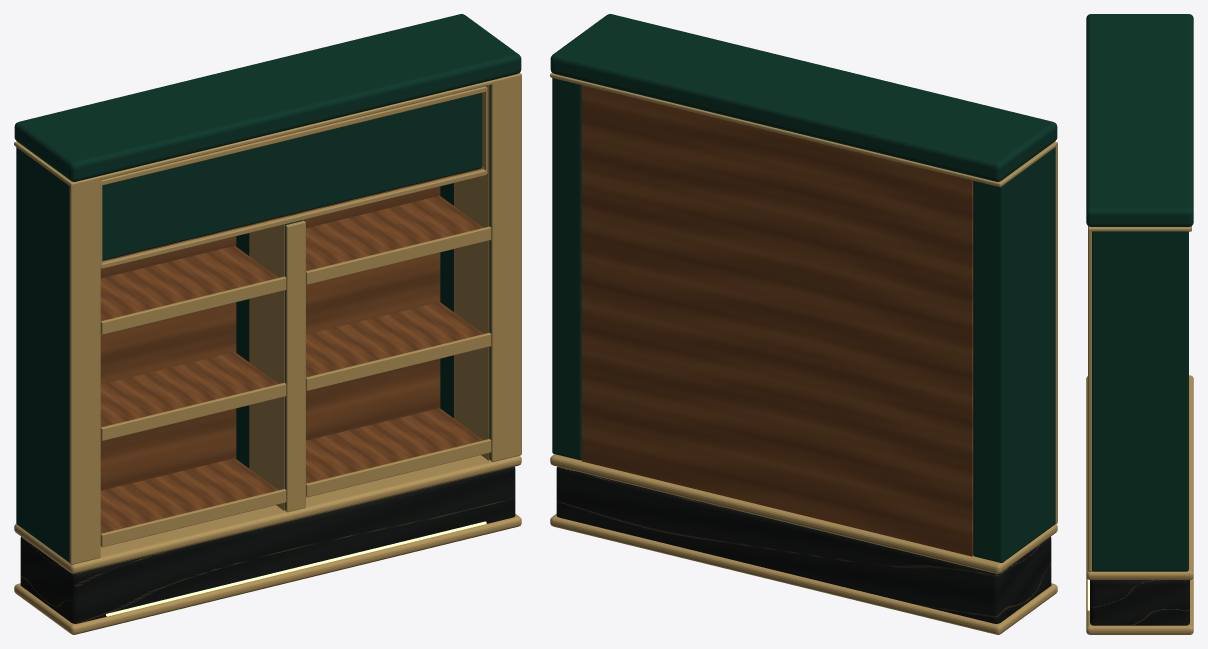
The model's file is edited.glb.
3 renders of one model, left to right at view 1: azimuth 30°, elevation 25°; view 2: azimuth 150°, elevation 25°; view 3: azimuth 270°, elevation 25°, orthographic. The views are drawn at different scales.
Visible parts, largest first — view 1: cabinet_crown, cabinet_back, brand_header_panel, cabinet_stone_base, cabinet_left_pillar, trim_left_front, trim_right_front, trim_base_top, trim_right_inner, trim_middle_left_lining, shelf_1_left, shelf_3_left (+19 smaller); view 2: cabinet_back, cabinet_crown, cabinet_left_pillar, cabinet_stone_base, cabinet_right_pillar, trim_base_top, trim_base_plinth, trim_crown_lip, trim_left_front; view 3: cabinet_right_pillar, cabinet_crown, cabinet_stone_base, trim_base_top, trim_base_plinth, trim_right_front, trim_crown_lip.
Boxes of the visible parts, <box> form: cabinet_crown: <box>14,14,521,181</box>; cabinet_back: <box>100,186,440,490</box>; brand_header_panel: <box>102,93,482,260</box>; cabinet_stone_base: <box>20,466,515,623</box>; cabinet_left_pillar: <box>16,147,69,562</box>; trim_left_front: <box>69,180,100,564</box>; trim_right_front: <box>490,77,521,461</box>; trim_base_top: <box>14,455,521,573</box>; trim_right_inner: <box>454,85,489,460</box>; trim_middle_left_lining: <box>249,224,284,510</box>; shelf_1_left: <box>100,458,278,533</box>; shelf_3_left: <box>100,245,278,320</box>; cabinet_back: <box>581,85,973,556</box>; cabinet_crown: <box>550,14,1057,181</box>; cabinet_left_pillar: <box>973,147,1055,562</box>; cabinet_stone_base: <box>556,466,1051,623</box>; cabinet_right_pillar: <box>552,78,581,460</box>; trim_base_top: <box>550,454,1057,573</box>; trim_base_plinth: <box>550,514,1057,634</box>; trim_crown_lip: <box>550,73,1057,187</box>; trim_left_front: <box>1055,145,1057,524</box>; cabinet_right_pillar: <box>1092,231,1188,571</box>; cabinet_crown: <box>1086,14,1193,226</box>; cabinet_stone_base: <box>1090,580,1189,625</box>; trim_base_top: <box>1086,375,1193,579</box>; trim_base_plinth: <box>1086,577,1193,634</box>; trim_right_front: <box>1088,231,1091,571</box>; trim_crown_lip: <box>1088,226,1191,231</box>.
Bounding box in the file's own units: 2.4 × 2.4 × 0.55.
Materials: 5 (2 with a texture image).
